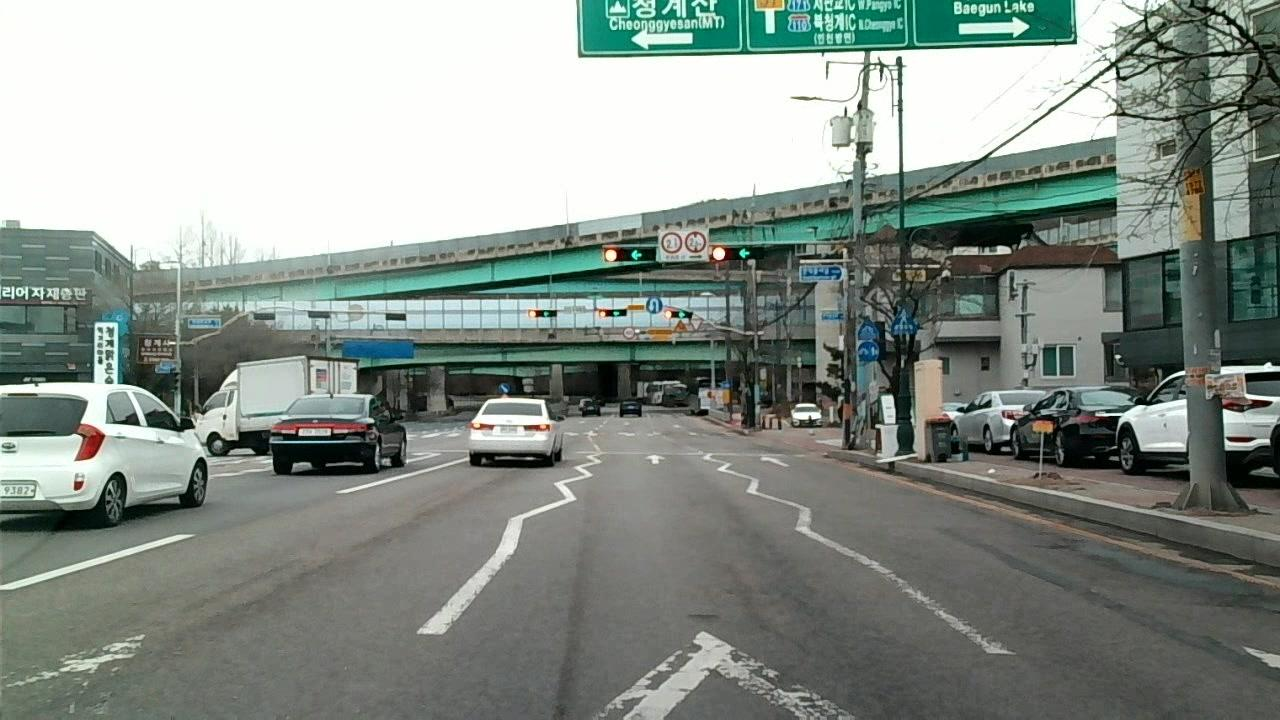vcrack: (993, 553, 1244, 661)
